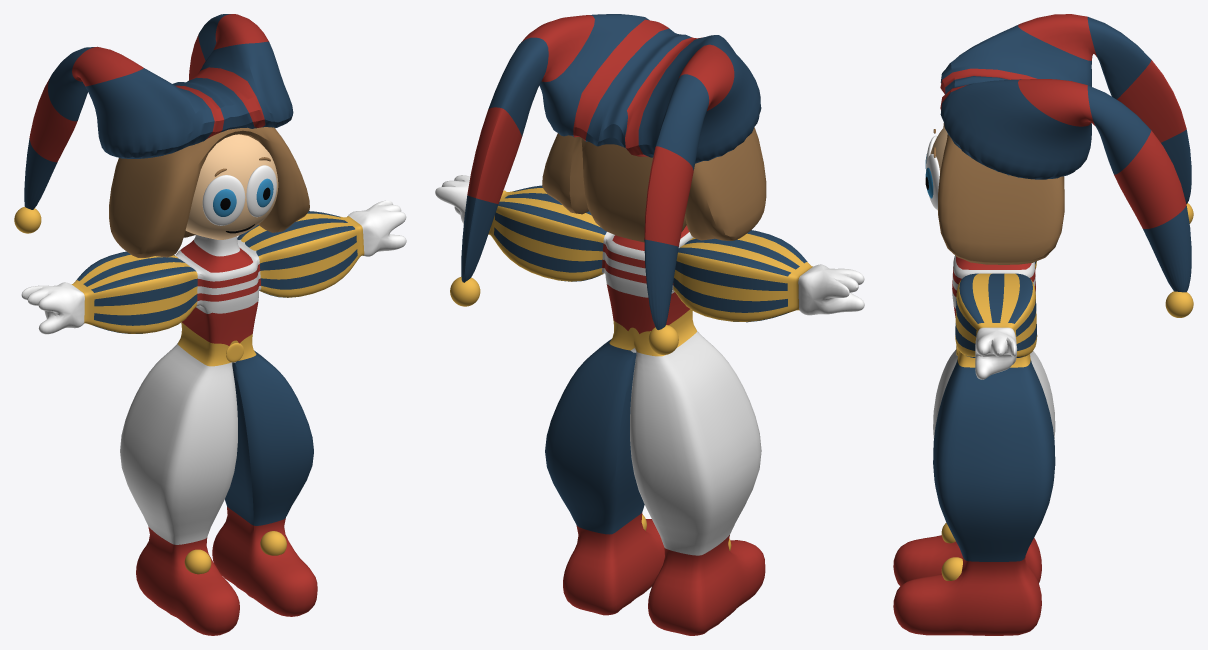
Rendered from Outono.fbx.
3 renders of one model, left to right at view 1: azimuth 30°, elevation 25°; view 2: azimuth 150°, elevation 25°; view 3: azimuth 270°, elevation 25°, orthographic. The views are drawn at different scales.
Visible parts, largest first — view 1: Body; view 2: Body; view 3: Body.
Boxes of the visible parts, bbox=[...] form: Body: bbox=[14, 14, 406, 635]; Body: bbox=[435, 14, 864, 635]; Body: bbox=[893, 14, 1193, 635].
Size of the model in its own units: 300 by 415 by 202.
